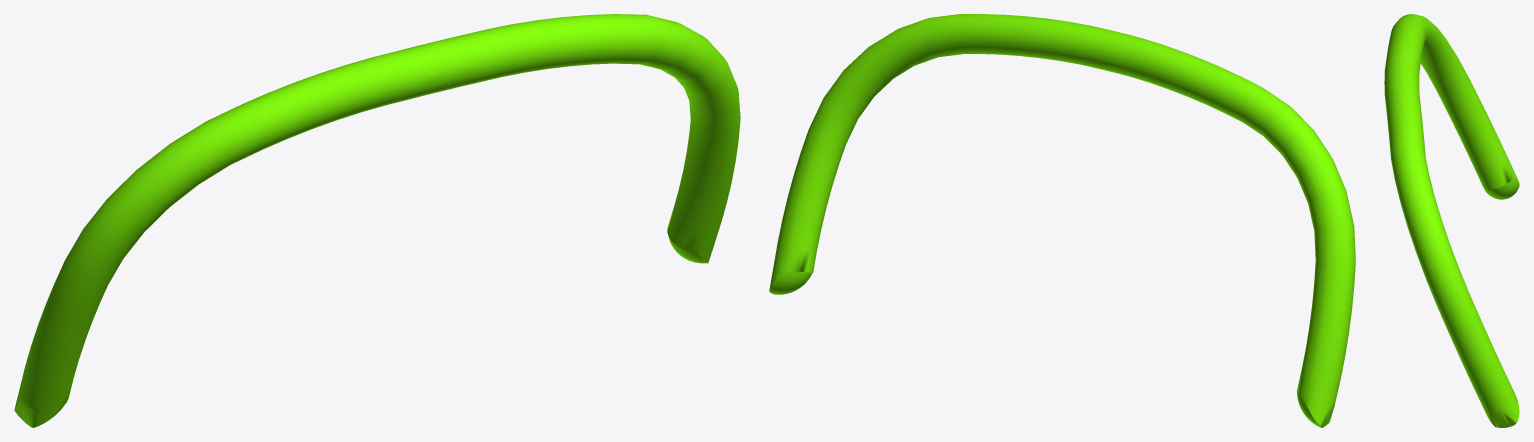
The model's file is chair_027_09.obj.
The picture shows the model from 3 angles, left to right: view 1: azimuth 30°, elevation 25°; view 2: azimuth 150°, elevation 25°; view 3: azimuth 270°, elevation 25°; orthographic projection. The views are drawn at different scales.
Size of the model in its own units: 291 by 142 by 70.56.
